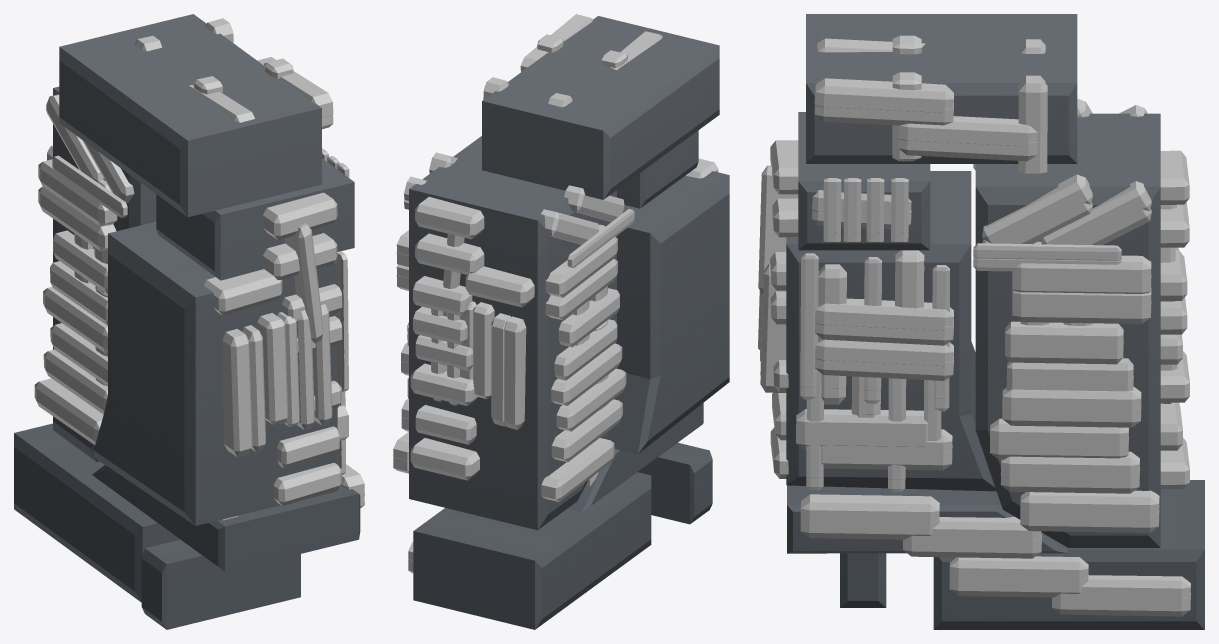
File: muro1.fbx
3 renders of one model, left to right at view 1: azimuth 30°, elevation 25°; view 2: azimuth 150°, elevation 25°; view 3: azimuth 270°, elevation 25°, orthographic. The views are drawn at different scales.
Visible parts, largest first — view 1: muro15; view 2: muro15; view 3: muro15.
Boxes of the visible parts, x1,y1,x2,y2 form: muro15: (14, 14, 364, 629); muro15: (393, 14, 729, 629); muro15: (758, 14, 1204, 629).
Bounding box in the file's own units: 1846 × 4483 × 3309.
